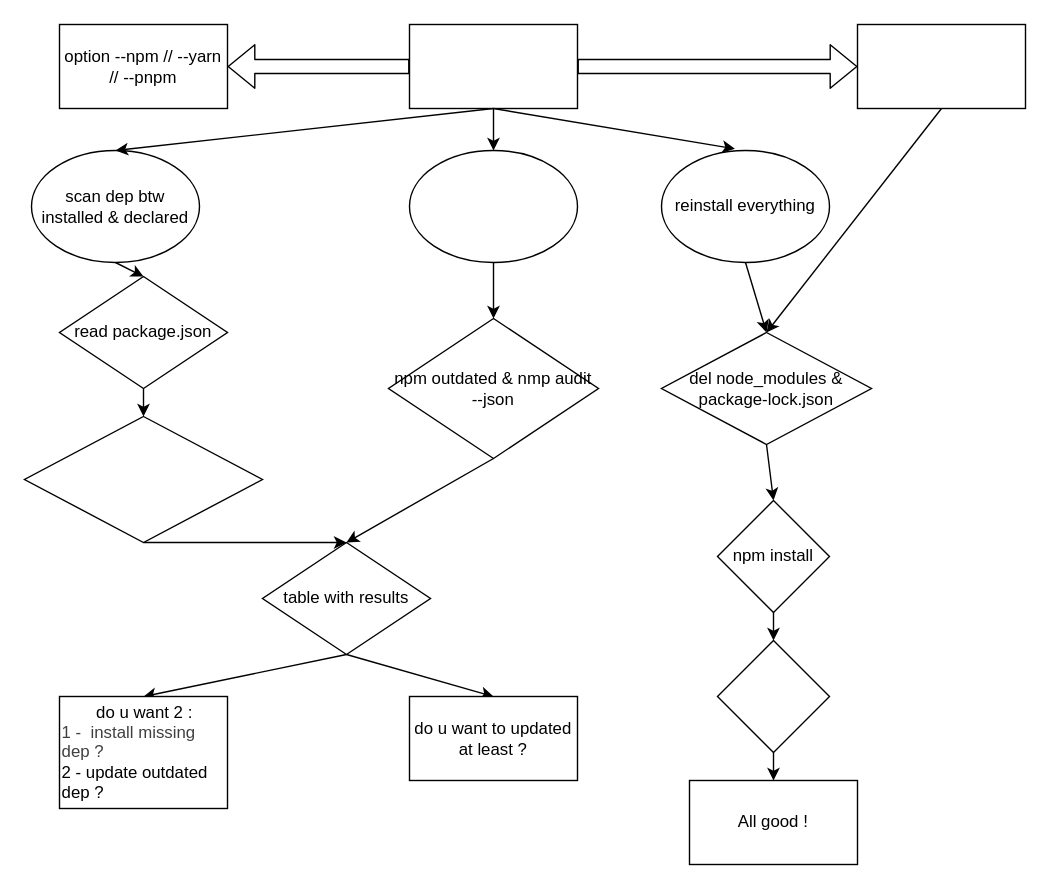
The diagram is 1050 pixels wide and 889 high, and some of its shapes have lost their labels. The shapes that lost their labels are listed below. From the top down, each one's centre as x and y in pixels, then its label:
the point at 493,65: what do u want 2 do ?
the point at 941,65: option --fix
the point at 493,205: scan dep 4 outdated & vulnerabilities
the point at 142,478: compare with modules in node_module
the point at 773,695: check install
